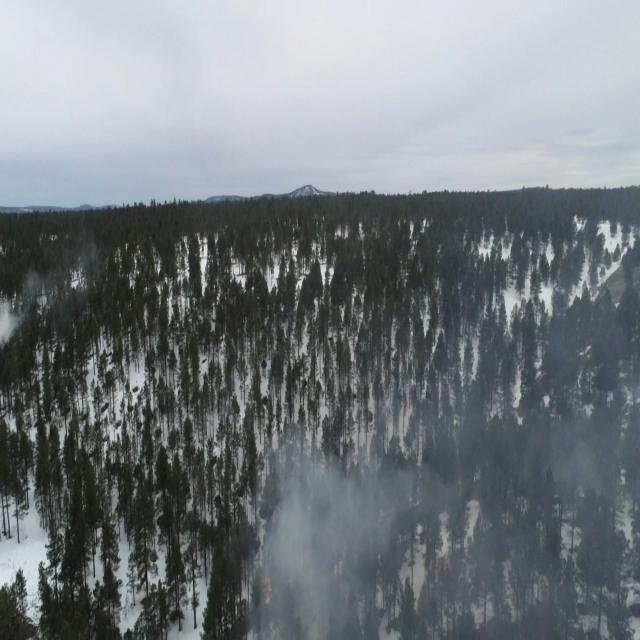Fire: (261, 572, 274, 608)
Smoke: (246, 410, 622, 640), (0, 246, 113, 321)
